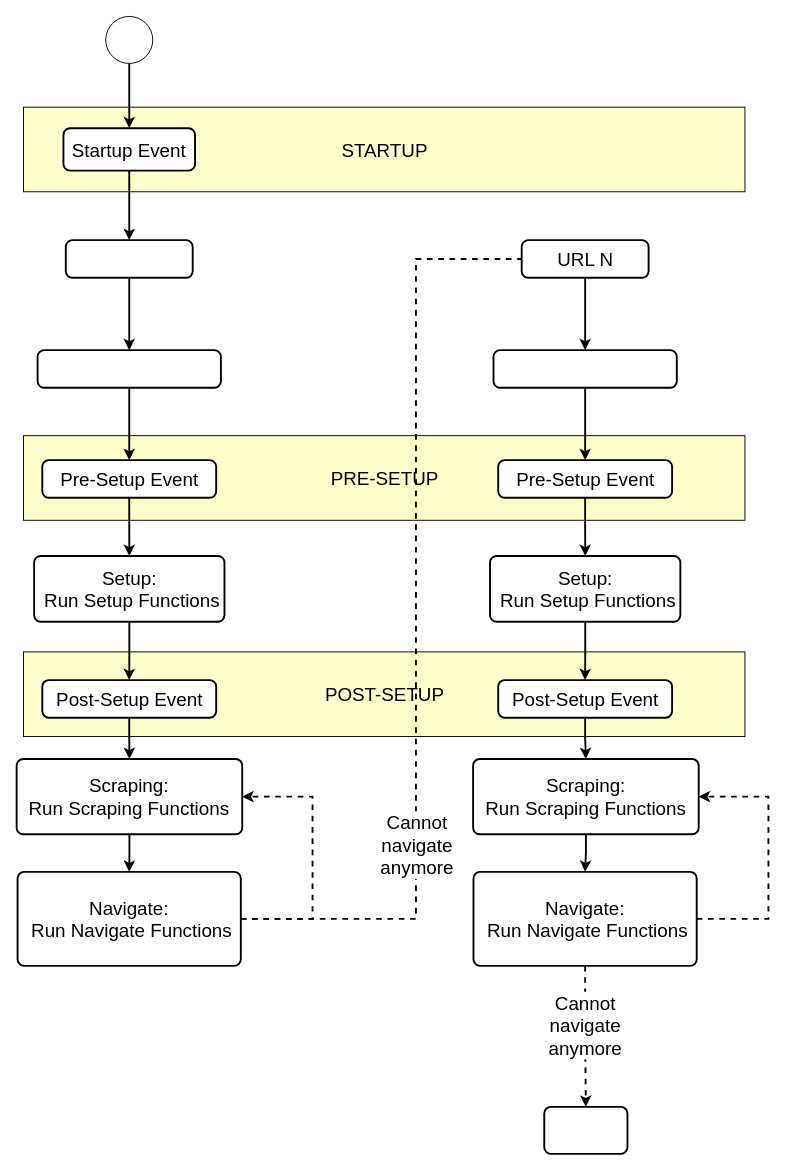
Some shapes in this 793 by 1171 pixel diagram are drawn without their labels. The shapes that lost their labels are listed below. From the top down, each one's centre as x and y in pixels, then its label:
the point at 129,39: Start
the point at 128,258: URL 1
the point at 128,368: Get Page Content 1
the point at 584,368: Get Page Content N
the point at 585,1129: Save
